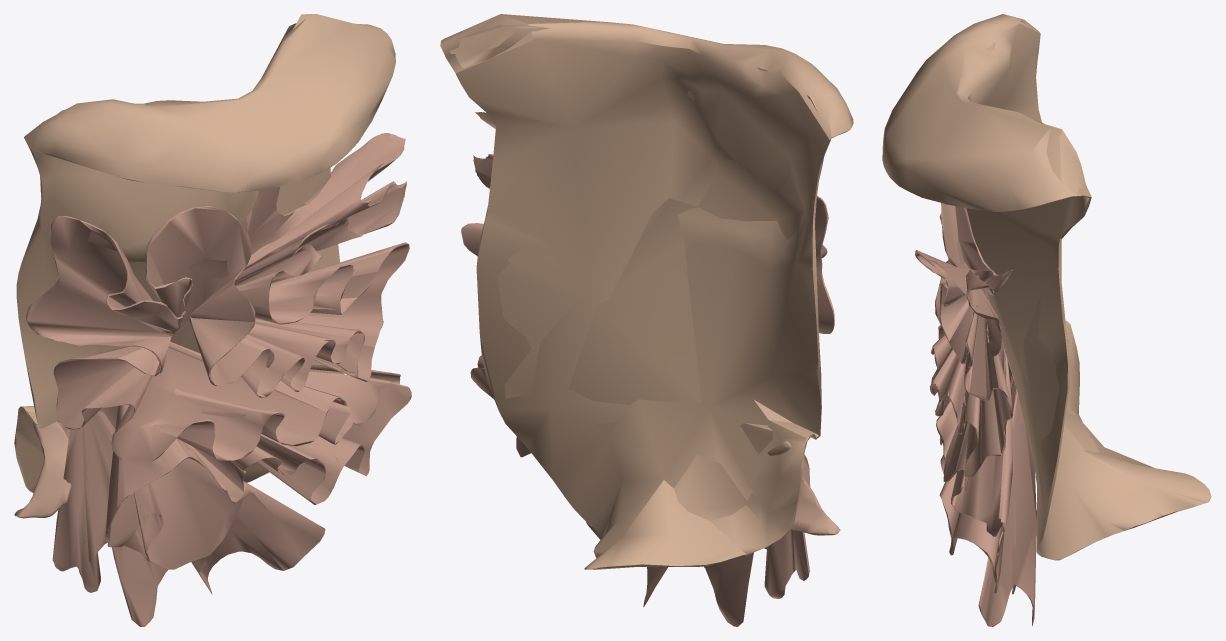
The model's file is mesentery.glb.
3 renders of one model, left to right at view 1: azimuth 30°, elevation 25°; view 2: azimuth 150°, elevation 25°; view 3: azimuth 270°, elevation 25°, orthographic. The views are drawn at different scales.
Visible parts, largest first — view 1: FJ3396 Mesentery of small intestine, FJ3398 Transverse mesocolon, FJ3397 Mesoappendix; view 2: FJ3398 Transverse mesocolon, FJ3396 Mesentery of small intestine, FJ3397 Mesoappendix; view 3: FJ3398 Transverse mesocolon, FJ3396 Mesentery of small intestine.
Boxes of the visible parts, left/top/right/bottom form: FJ3396 Mesentery of small intestine: left=26, top=133, right=411, bottom=626; FJ3398 Transverse mesocolon: left=14, top=14, right=395, bottom=493; FJ3397 Mesoappendix: left=14, top=421, right=71, bottom=518; FJ3398 Transverse mesocolon: left=440, top=14, right=853, bottom=569; FJ3396 Mesentery of small intestine: left=461, top=112, right=834, bottom=626; FJ3397 Mesoappendix: left=767, top=440, right=840, bottom=535; FJ3398 Transverse mesocolon: left=882, top=14, right=1211, bottom=560; FJ3396 Mesentery of small intestine: left=915, top=203, right=1036, bottom=626.
Size of the model in its own units: 0.1756 by 0.2438 by 0.1312.
